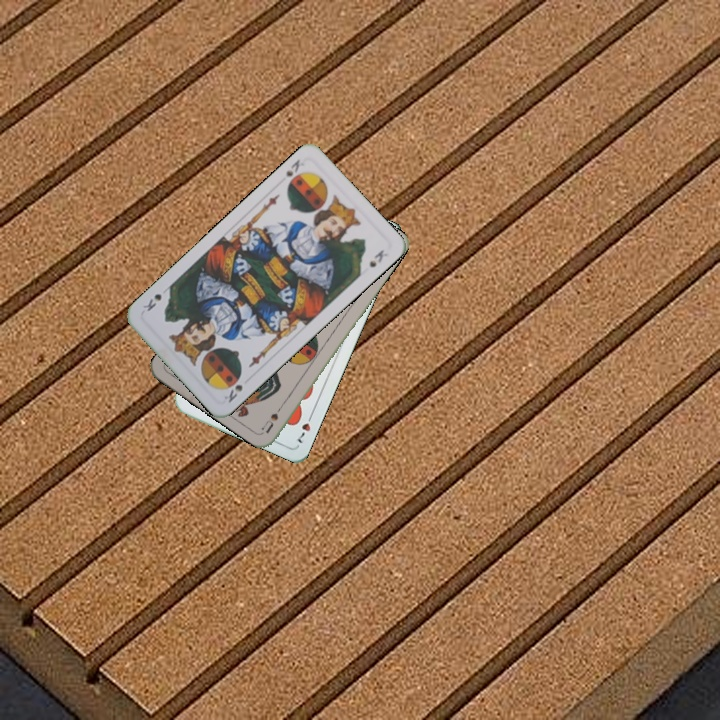H7: (293, 408, 316, 446)
SK: (220, 380, 245, 405), (282, 155, 307, 179)
SU: (257, 398, 288, 436)
